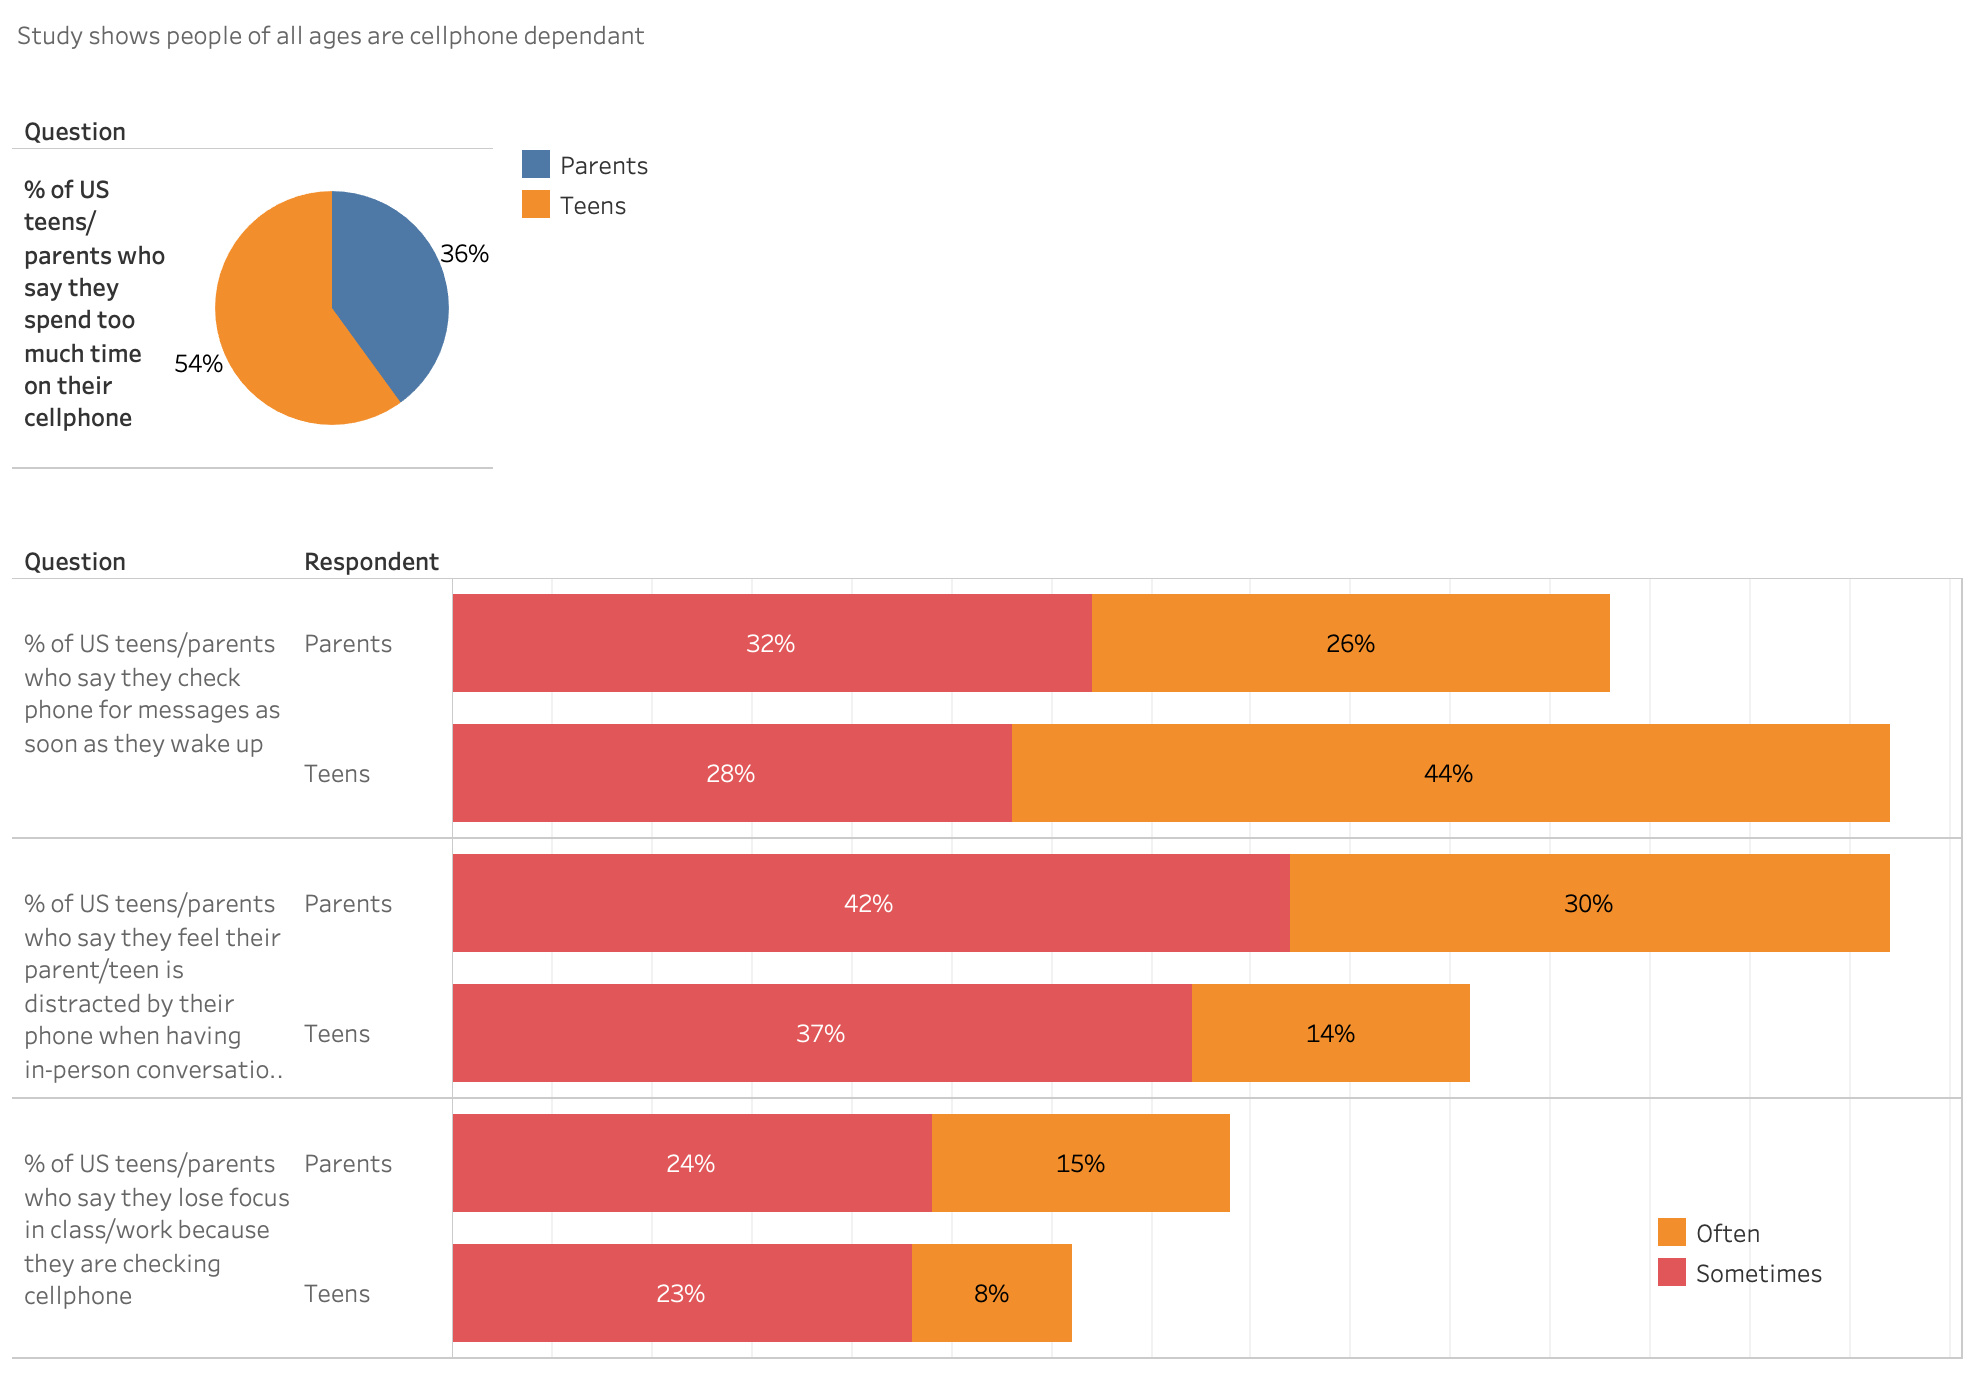

What the dashboard file says about the page in this screenshot:
{"tool":"tableau","page":{"name":"Dashboard 1","canvas":[1000,800],"ordinal":0},"visuals":[{"type":"worksheet","title":"Sheet 3","mark":"Automatic","cols":["time"],"box":[23,238,950,243]},{"type":"worksheet","title":"Sheet 2","mark":"Automatic","cols":["time"],"box":[0,503,999,254]}]}

Visuals, with their boxes on the page's 1000x800 design canvas (x1, y1, x2, y2). These are canvas units, not pixel positions in the 1974x1388 screenshot, which may show the page scaled, cropped or inside an application window:
"Sheet 3" worksheet: region(23, 238, 973, 481)
"Sheet 2" worksheet: region(0, 503, 999, 757)
